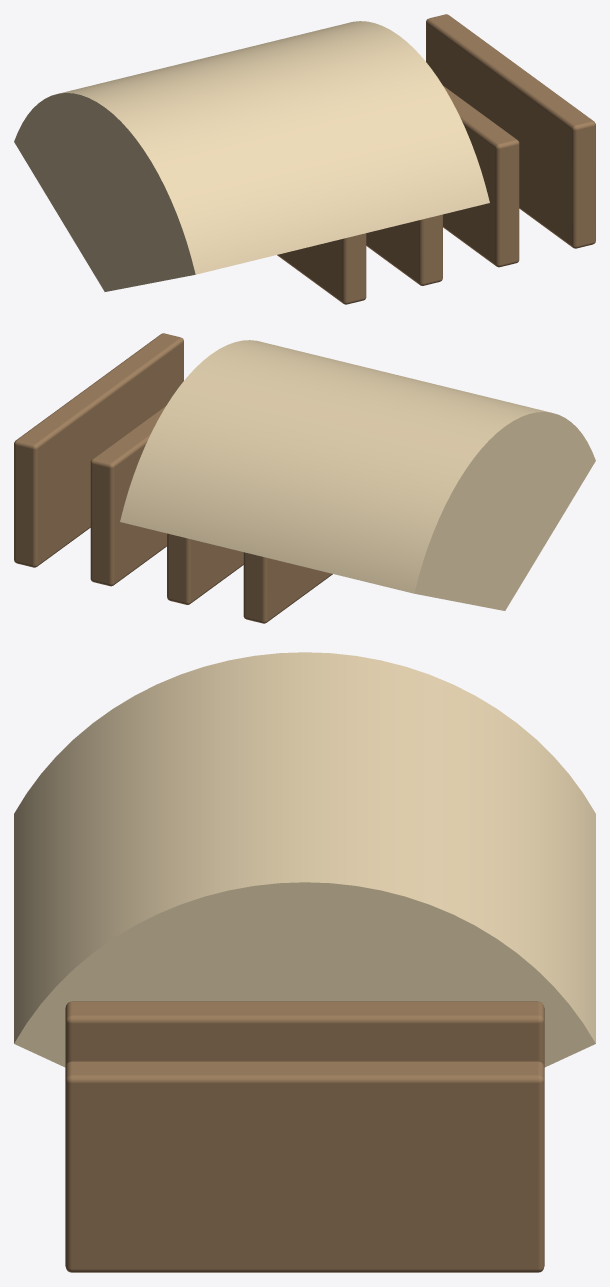
Rendered from marquetry-and-veneer-inlay-workshop-curved-form-caul-26ff7ebb__39120.glb.
The picture shows the model from 3 angles, top to bottom: view 1: azimuth 30°, elevation 25°; view 2: azimuth 150°, elevation 25°; view 3: azimuth 270°, elevation 25°; orthographic projection. The views are drawn at different scales.
Parts seen in each view (by area): view 1: curved-form-caul; view 2: curved-form-caul; view 3: curved-form-caul.
Boxes of the visible parts, bbox=[...] form: curved-form-caul: bbox=[14, 14, 595, 304]; curved-form-caul: bbox=[14, 333, 595, 623]; curved-form-caul: bbox=[14, 652, 595, 1272].
Size of the model in its own units: 0.71 by 0.3 by 0.5346.
